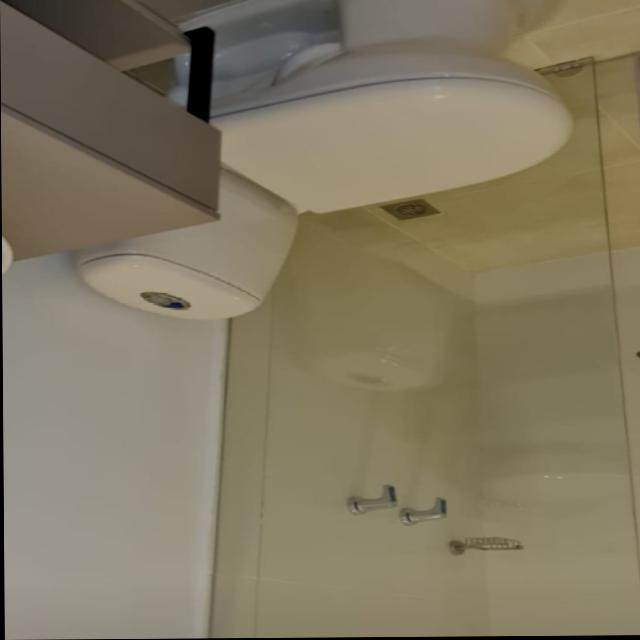toilet: (71, 0, 575, 323)
